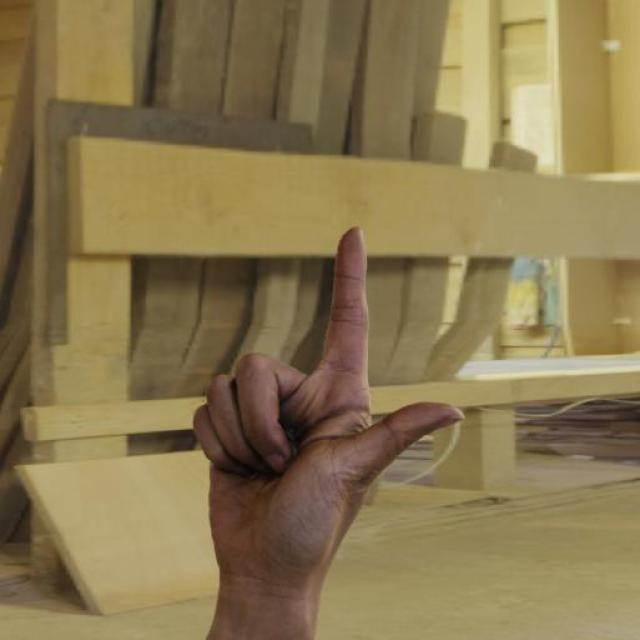L: (188, 222, 468, 588)
